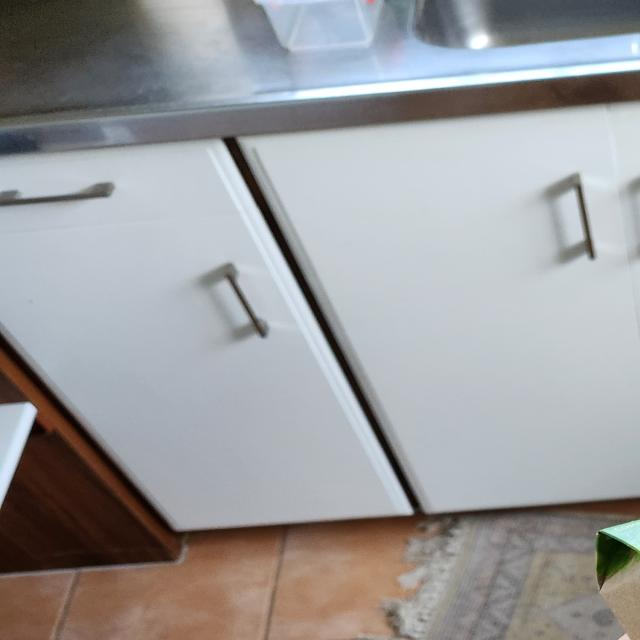paprika: (595, 507, 640, 640)
